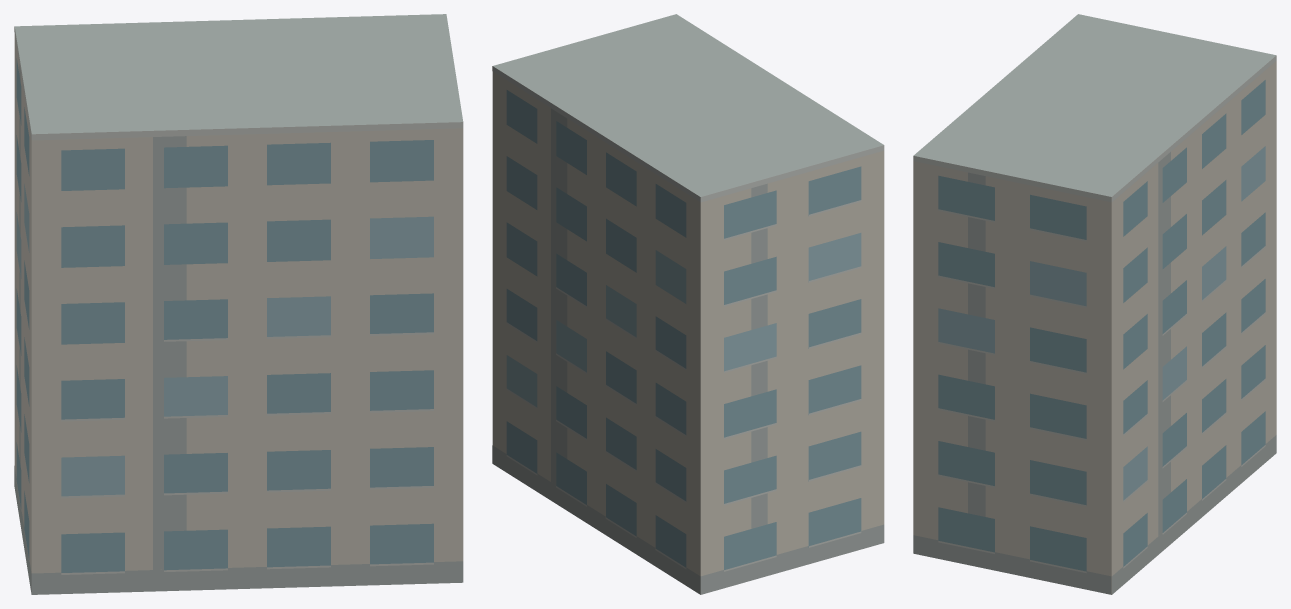
Rendered from residential-9fa6150e-9ace-43cf-970d-a261db3c030e.glb.
3 renders of one model, left to right at view 1: azimuth 30°, elevation 25°; view 2: azimuth 150°, elevation 25°; view 3: azimuth 270°, elevation 25°, orthographic. The views are drawn at different scales.
Parts seen in each view (by area): view 1: residential-9fa6150e-9ace-43cf-970d-a261db3c030e.tmp; view 2: residential-9fa6150e-9ace-43cf-970d-a261db3c030e.tmp; view 3: residential-9fa6150e-9ace-43cf-970d-a261db3c030e.tmp.
Part boxes in pixels (x1,y1,x2,y2): residential-9fa6150e-9ace-43cf-970d-a261db3c030e.tmp: (14, 14, 463, 594); residential-9fa6150e-9ace-43cf-970d-a261db3c030e.tmp: (492, 14, 884, 594); residential-9fa6150e-9ace-43cf-970d-a261db3c030e.tmp: (913, 14, 1276, 594).
Bounding box in the file's own units: 17.77 × 18 × 14.91.
